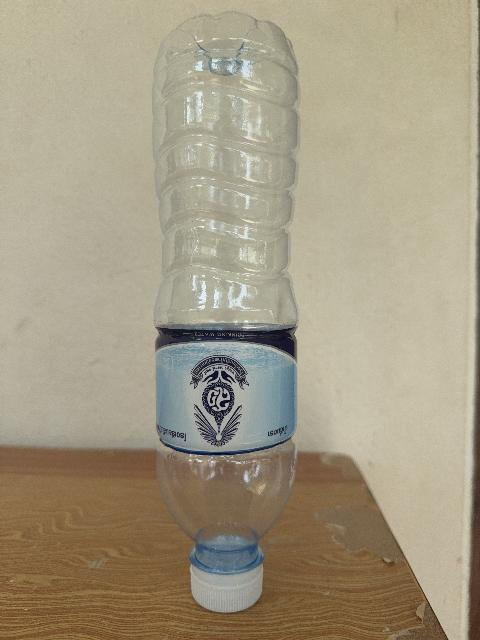bottle: (153, 13, 298, 611)
